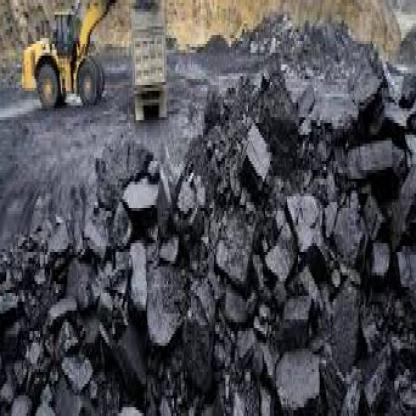Sedimentary_coal: (281, 64, 358, 138), (270, 334, 322, 413), (347, 120, 395, 188), (294, 181, 330, 266), (238, 115, 272, 194), (122, 155, 159, 223), (385, 56, 415, 131), (147, 293, 184, 349), (129, 240, 156, 311)
